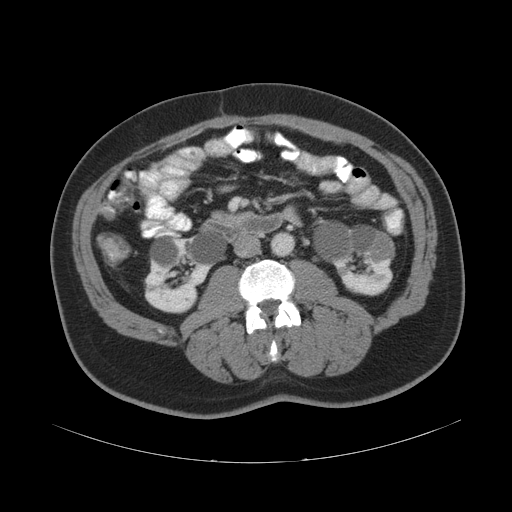Lesion: (369, 229, 397, 266)
